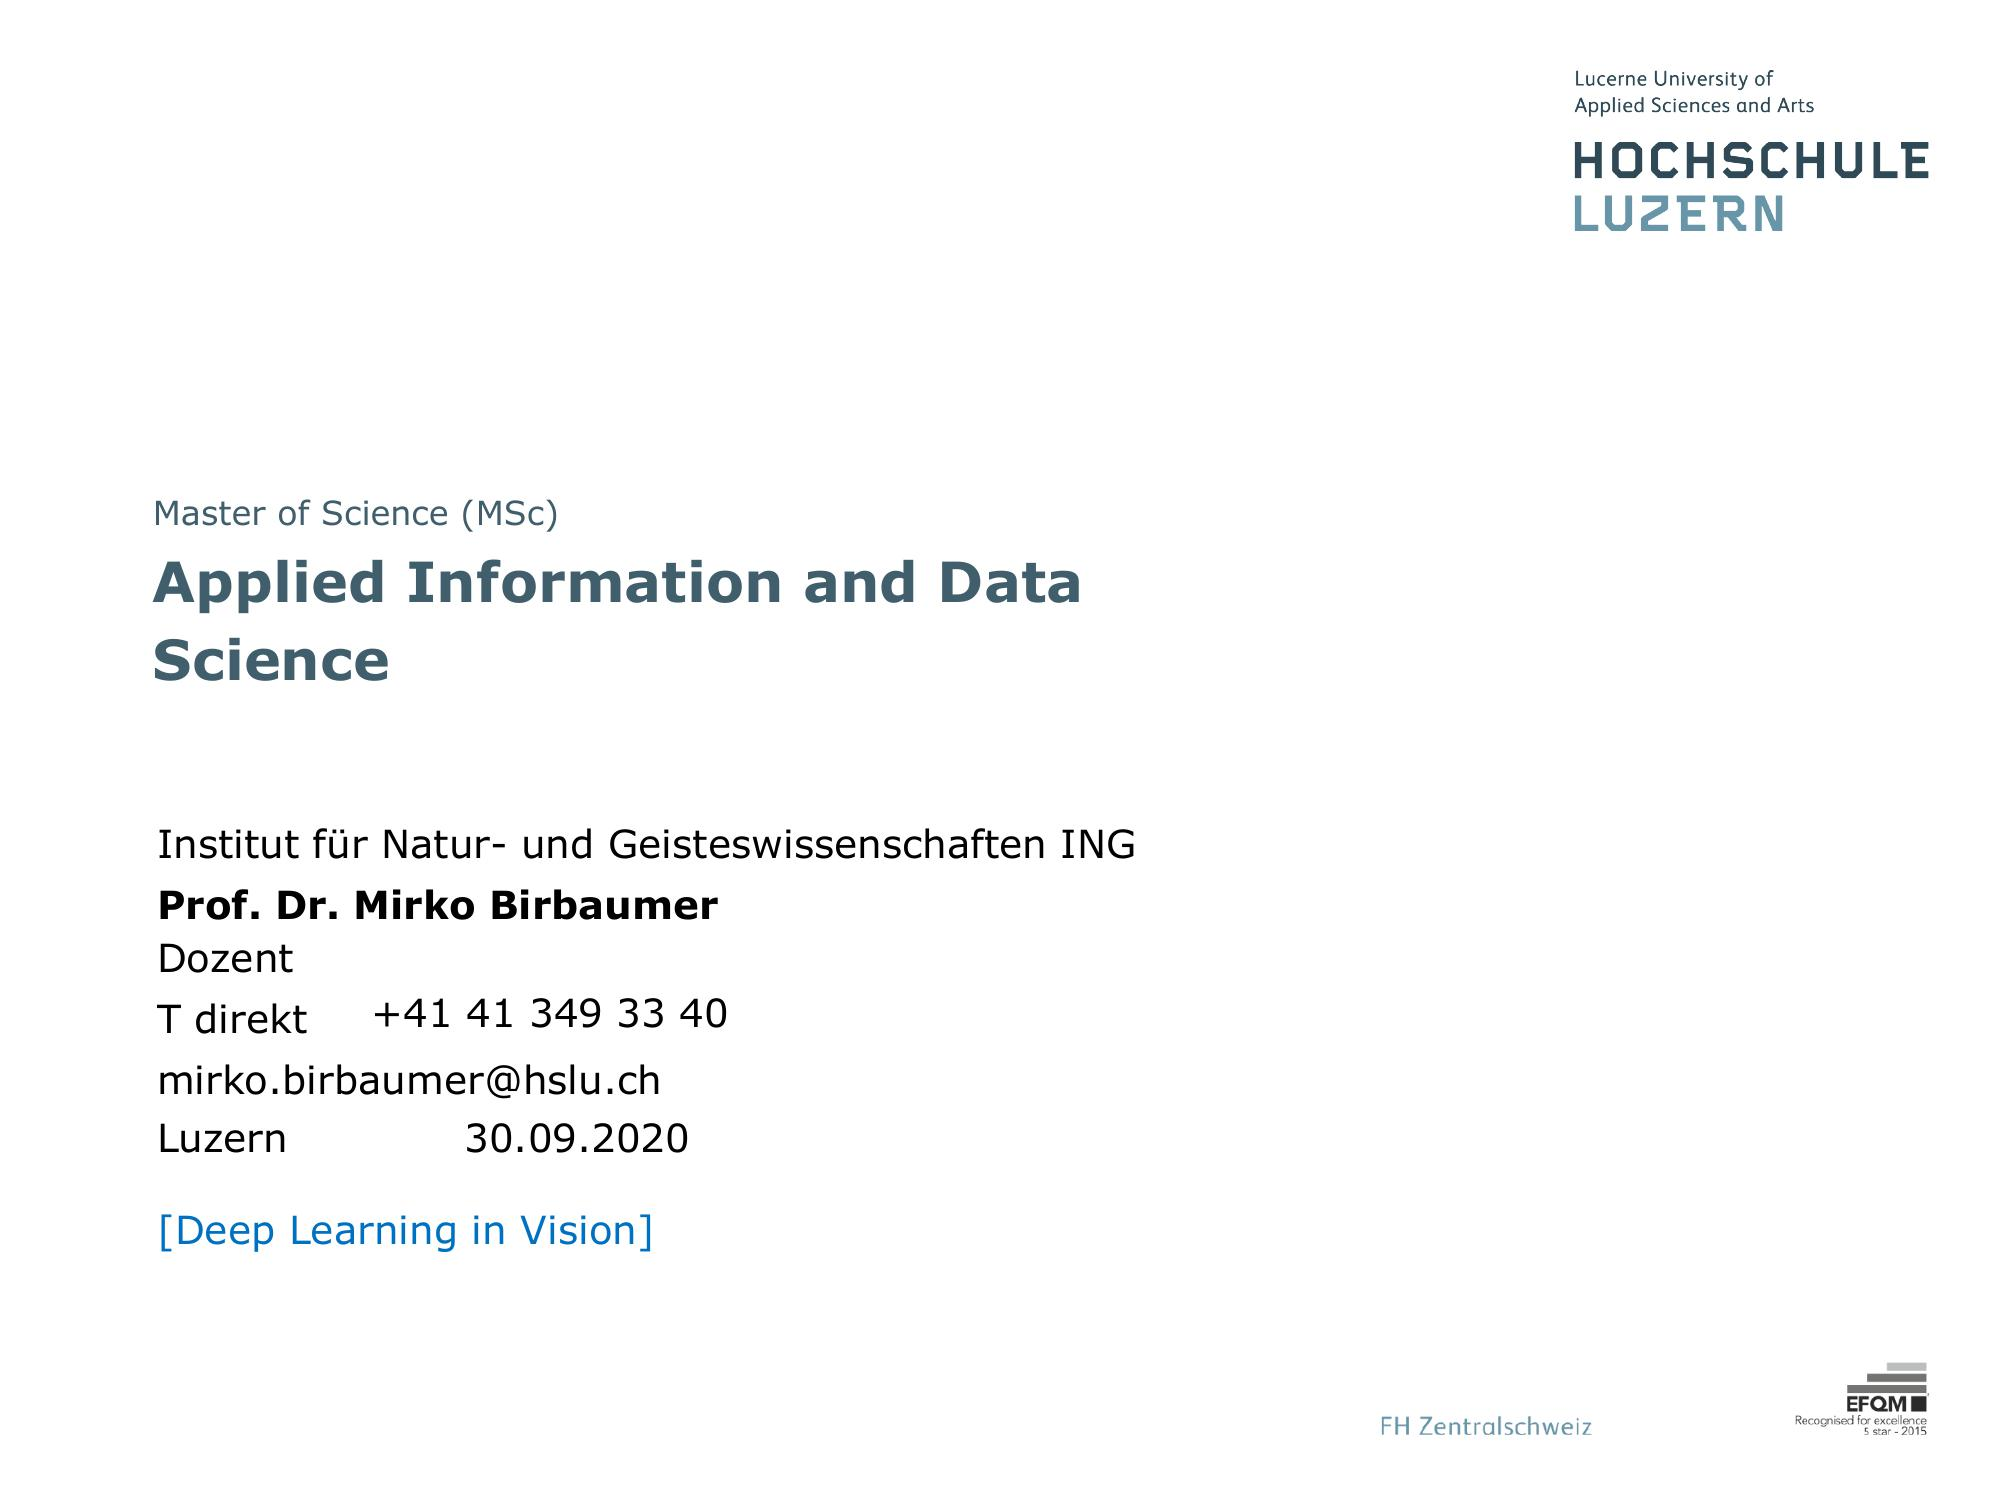Title: (143, 551, 1090, 685)
